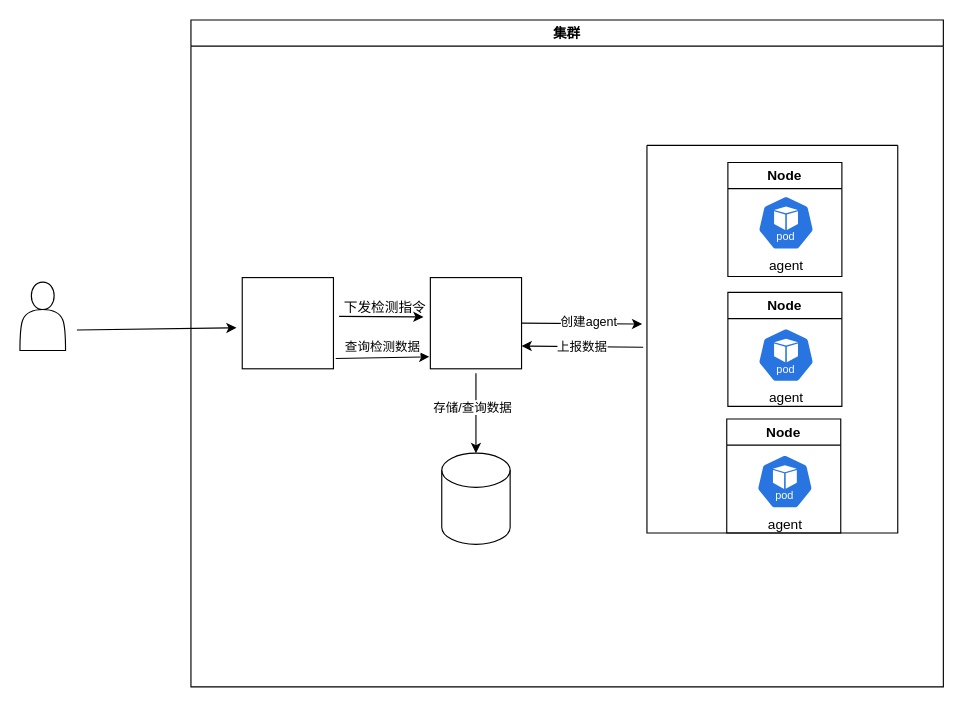
Some shapes in this 963 by 707 pixel diagram are drawn without their labels. The shapes that lost their labels are listed below. From the top down, each one's centre as x and y in pixels, then its label:
the point at 287,322: UI
the point at 475,322: service
the point at 475,498: database
